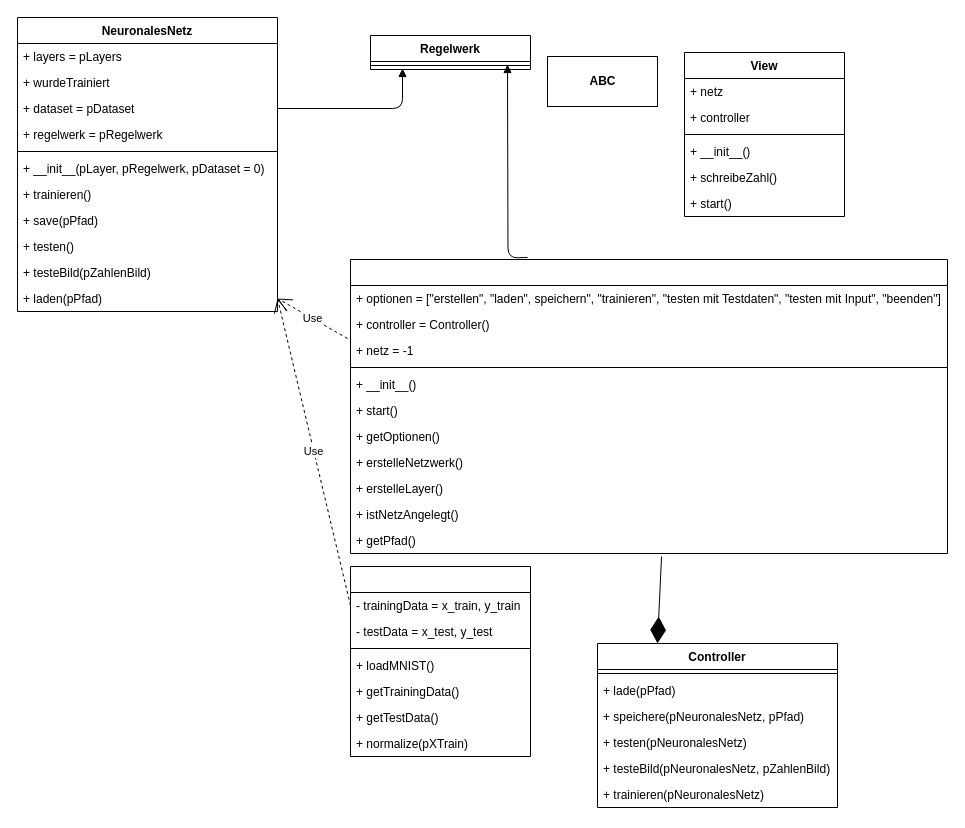
Image size: 965x828. Some labels were removed from this diagram. The shapes that lost their labels are listed below. From the top down, each one's box as (x1, y1, x2, y2) in pixels, then its label:
(350, 258, 948, 554): KonsolenAnwendung
(350, 566, 530, 756): Dataset
